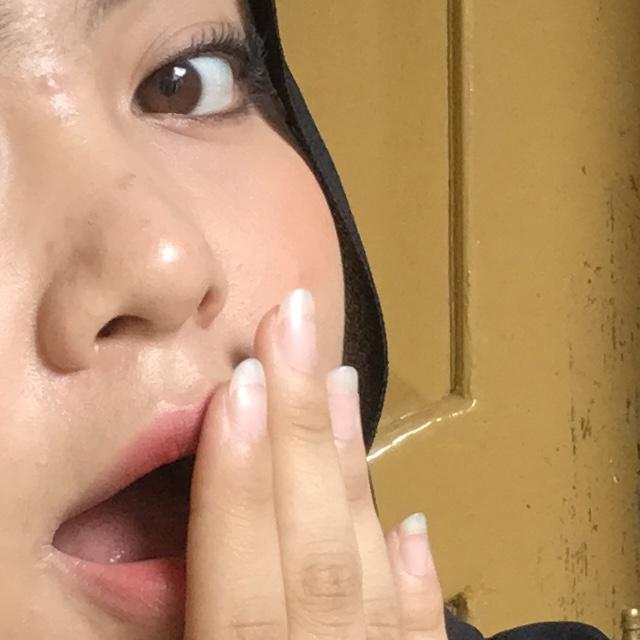ngantuk: (0, 266, 610, 640)
